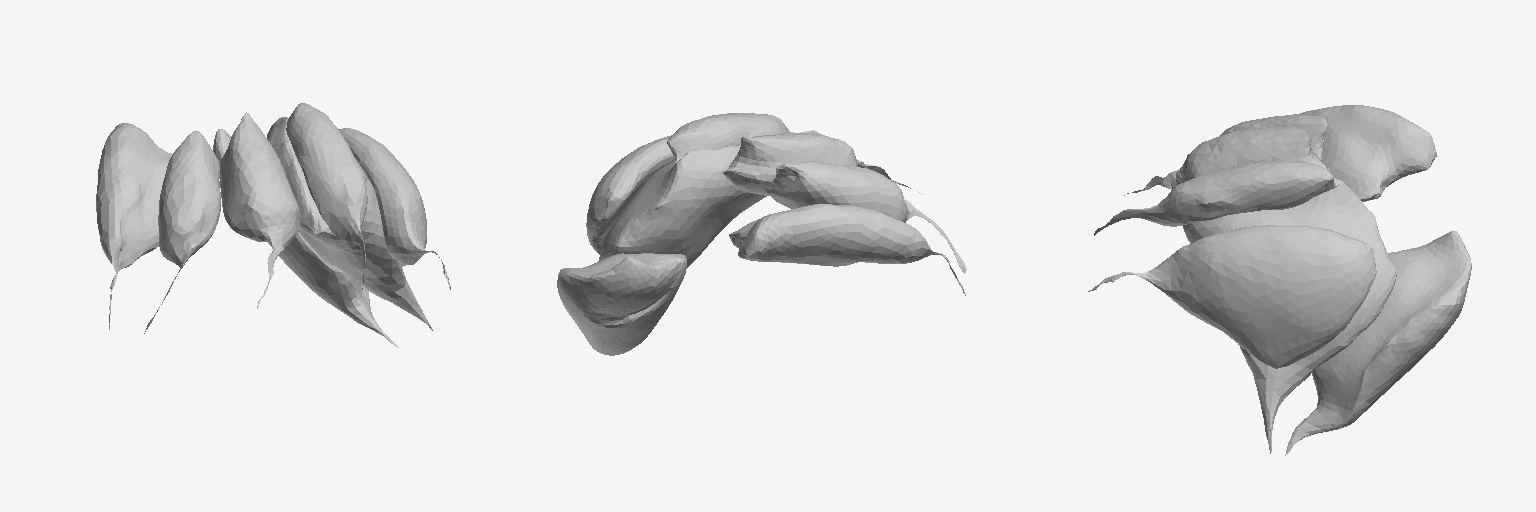
File: rand_9_muscle.obj
The picture shows the model from 3 angles: view 1: azimuth 30°, elevation 25°; view 2: azimuth 150°, elevation 25°; view 3: azimuth 270°, elevation 25°; orthographic projection.
Bounding box in the file's own units: 83.99 × 60.42 × 80.97.